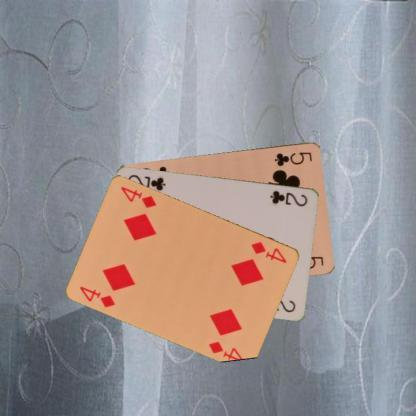2c: (268, 187, 310, 208)
4d: (248, 239, 288, 264), (78, 283, 116, 309)
5c: (272, 149, 314, 167)
